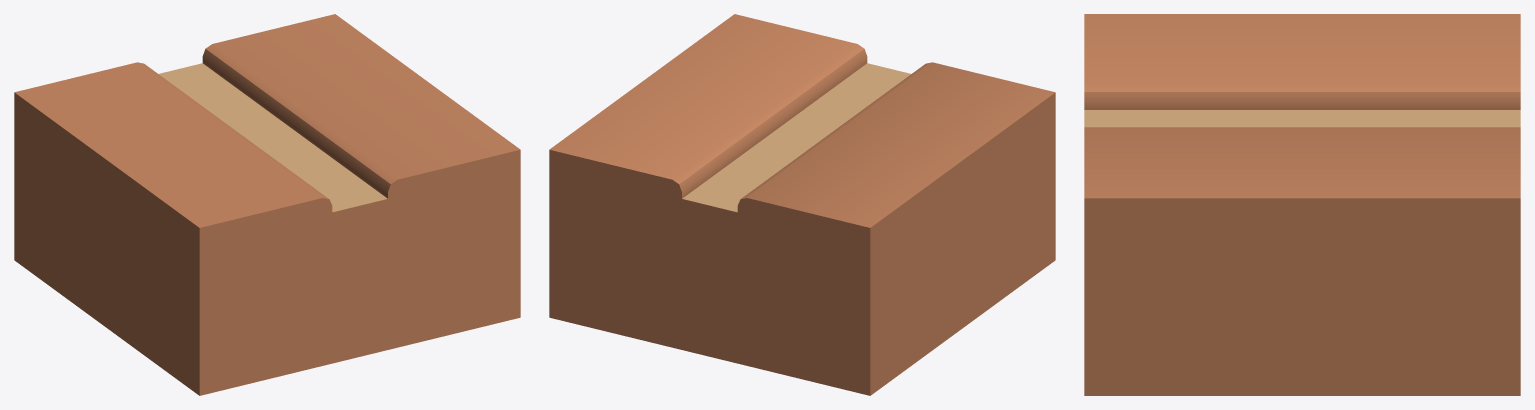
The model's file is square_rock_roadB.glb.
The picture shows the model from 3 angles, left to right: view 1: azimuth 30°, elevation 25°; view 2: azimuth 150°, elevation 25°; view 3: azimuth 270°, elevation 25°; orthographic projection. The views are drawn at different scales.
Parts seen in each view (by area): view 1: square_rock_roadB; view 2: square_rock_roadB; view 3: square_rock_roadB.
Part boxes in pixels (left/top/right/bottom): square_rock_roadB: left=14, top=14, right=520, bottom=395; square_rock_roadB: left=549, top=14, right=1055, bottom=395; square_rock_roadB: left=1084, top=14, right=1520, bottom=395.
Bounding box in the file's own units: 3.82 × 1.91 × 3.82.
